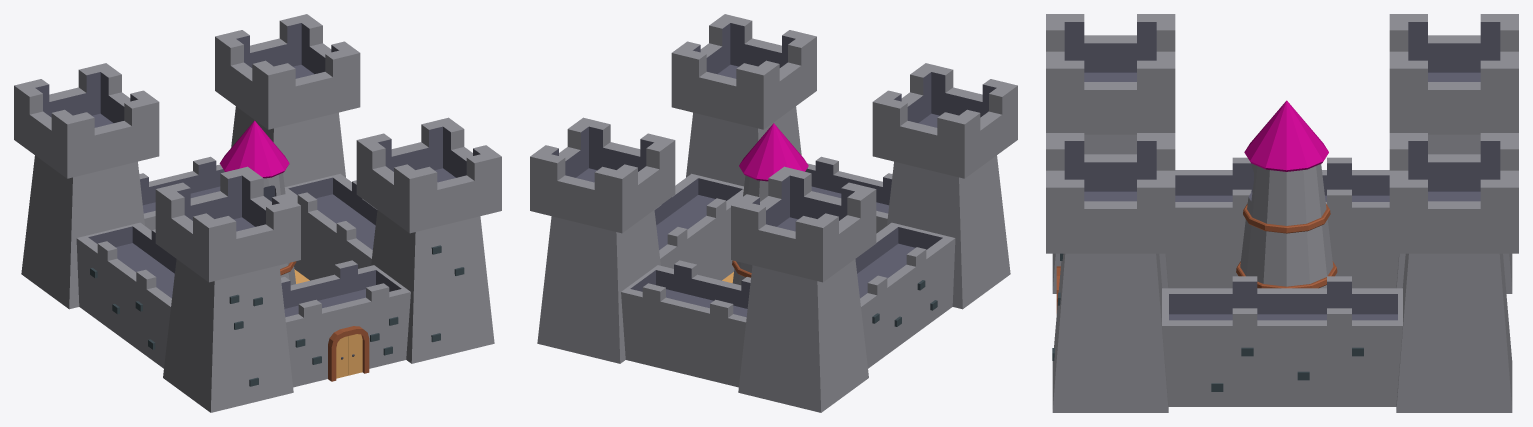
File: CastlePurple.fbx
3 views of the same model, side by side, from view 1: azimuth 30°, elevation 25°; view 2: azimuth 150°, elevation 25°; view 3: azimuth 270°, elevation 25° (orthographic). The views are drawn at different scales.
Visible parts, largest first — view 1: CastlePurple; view 2: CastlePurple; view 3: CastlePurple.
Boxes of the visible parts, <box> form: CastlePurple: <box>14,14,501,412</box>; CastlePurple: <box>530,14,1017,412</box>; CastlePurple: <box>1046,14,1518,412</box>.
Size of the model in its own units: 919 by 563 by 1058.
1 material, 1 textured.
